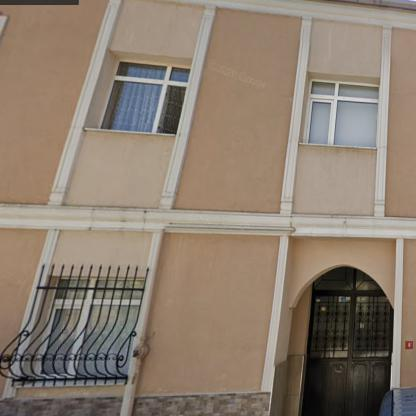door: (302, 291, 394, 415)
window: (32, 278, 145, 382), (99, 60, 191, 134), (306, 81, 378, 147), (314, 267, 382, 291)
